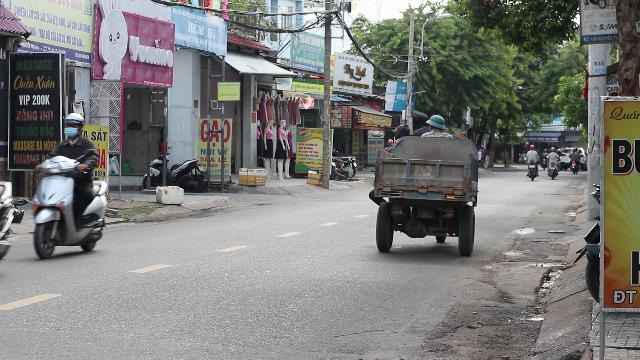helmet: (62, 112, 84, 139), (424, 114, 446, 134)
motorcyclist: (368, 113, 482, 259), (28, 113, 112, 260)
